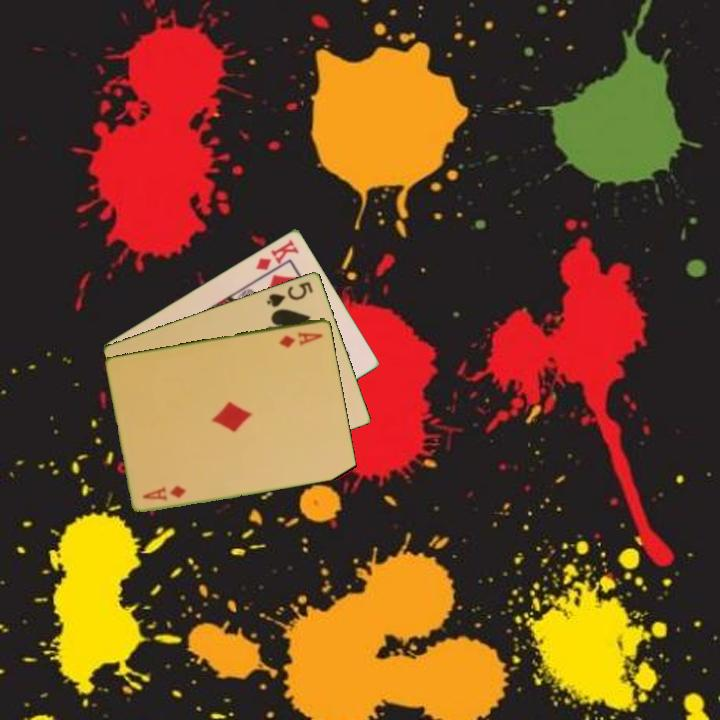5s: (263, 278, 316, 310)
Ad: (276, 327, 326, 350), (139, 482, 189, 503)
Kd: (252, 236, 302, 273)
